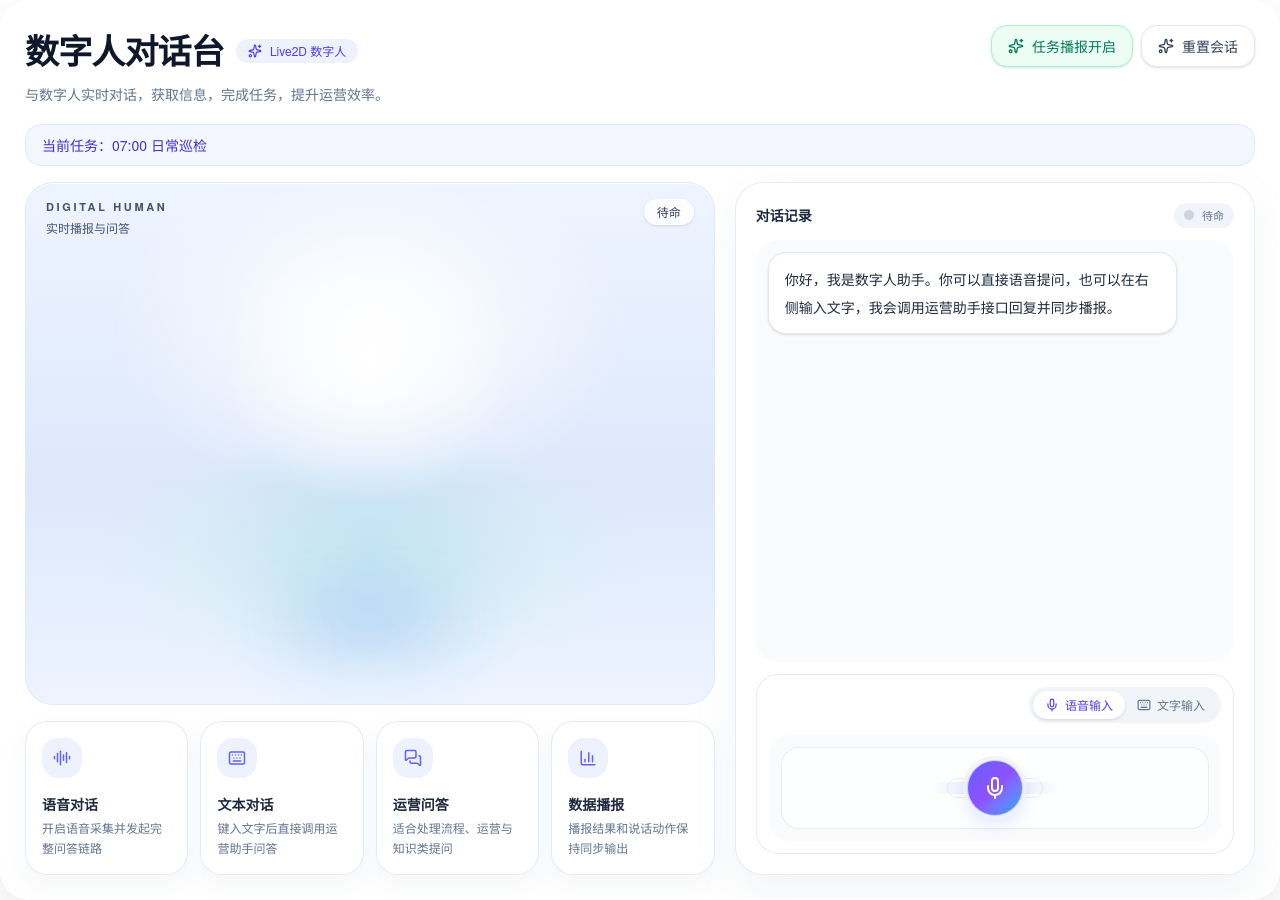
it: DigitalHumanTab › 切换到文字输入后展示文本输入框
The width and height of the screenshot is (1280, 900).
Click the tab "文字输入": (1171, 705) [1125,691,1217,719]
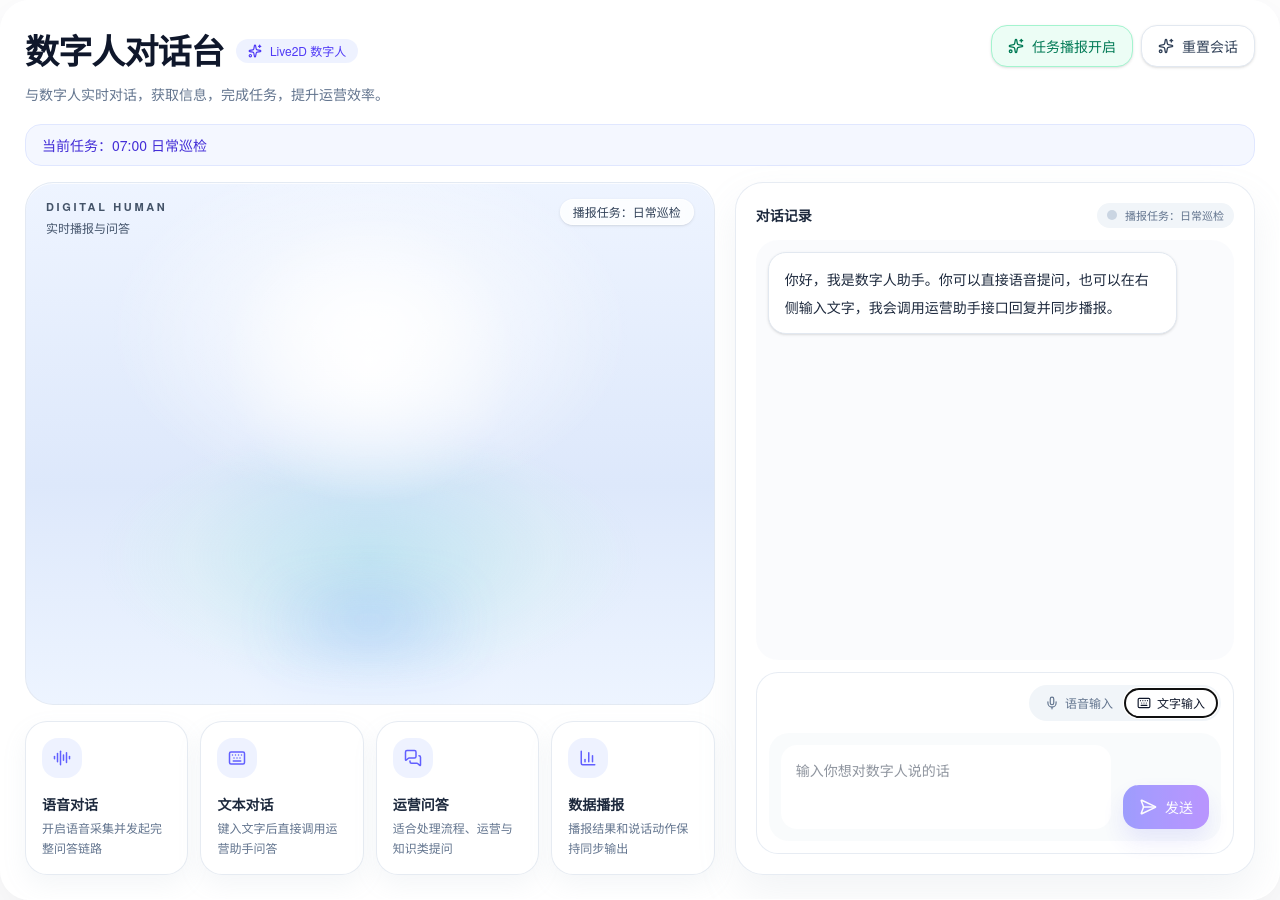
Result: the text box with placeholder "输入你想对数字人说的话" is shown at [781,745,1111,829]
Result: the button "点击开始说话" is gone
